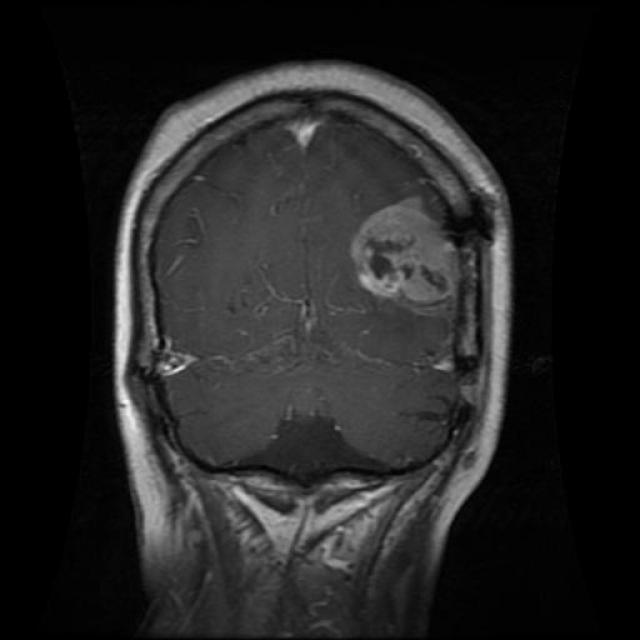Brain-Tumor: (336, 177, 476, 326)
